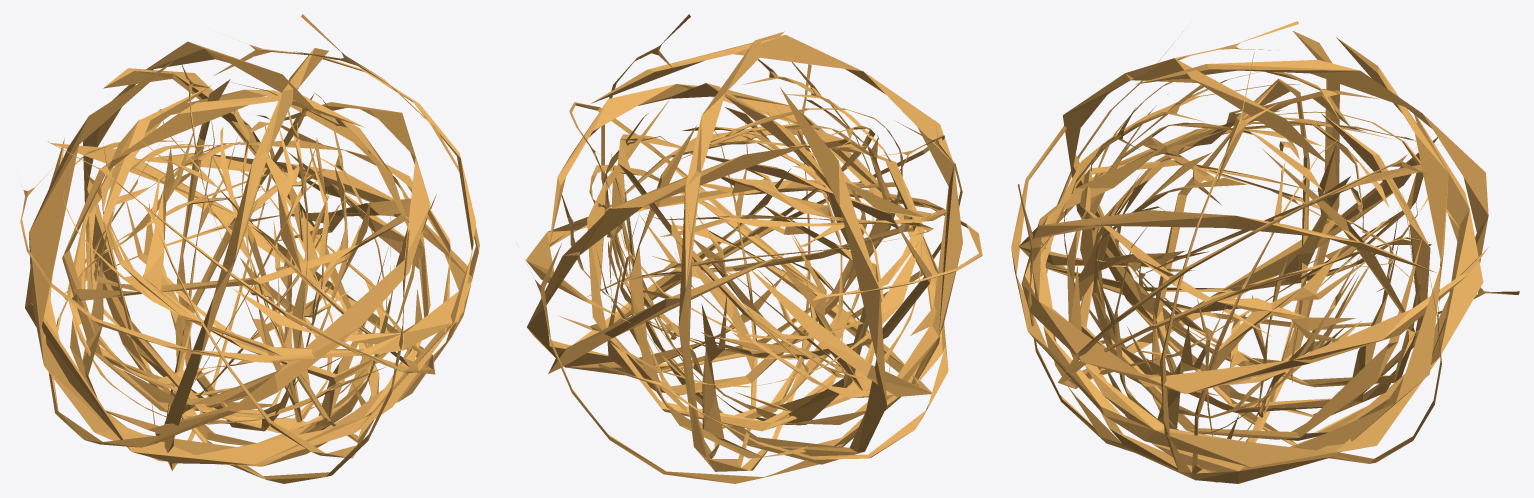
The model's file is Tumbleweed.fbx.
3 views of the same model, side by side, from view 1: azimuth 30°, elevation 25°; view 2: azimuth 150°, elevation 25°; view 3: azimuth 270°, elevation 25° (orthographic). The views are drawn at different scales.
Parts seen in each view (by area): view 1: Plane.007; view 2: Plane.007; view 3: Plane.007.
Part boxes in pixels (left/top/right/bottom): Plane.007: left=20, top=14, right=479, bottom=483; Plane.007: left=524, top=14, right=982, bottom=483; Plane.007: left=1011, top=21, right=1519, bottom=483.
Bounding box in the file's own units: 538 × 564 × 576.
